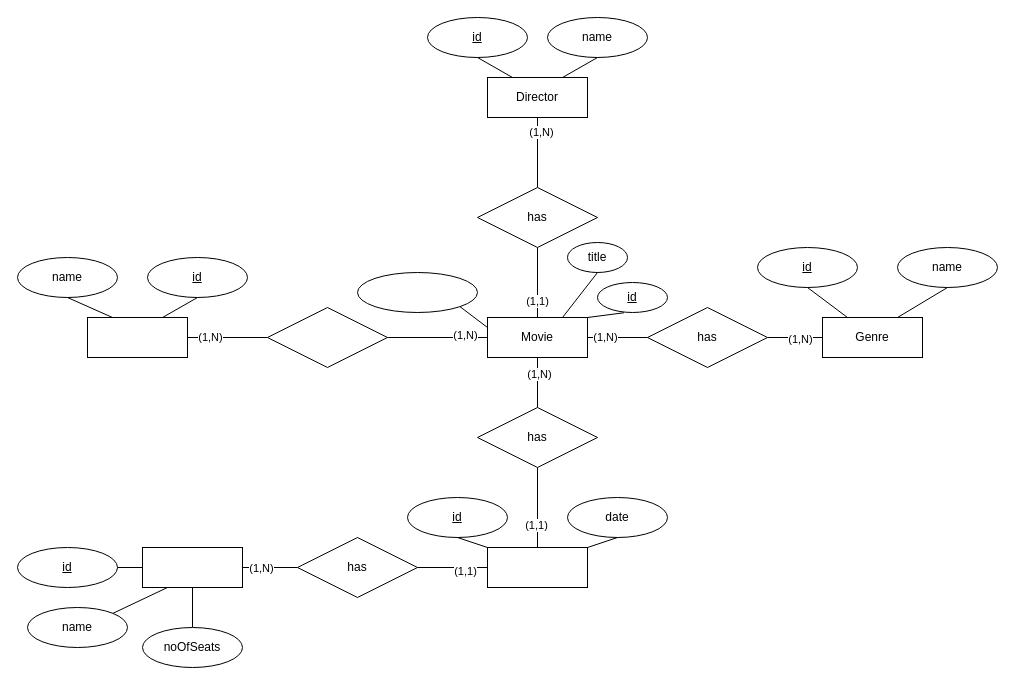
Image size: 1015x685. Some labels were removed from this diagram. Each missing label, with the box of its shape:
Actor: (86, 316, 188, 358)
acts: (266, 306, 388, 368)
CinemaHall: (142, 546, 242, 588)
duration_in_minutes: (356, 272, 478, 312)
Projection: (486, 546, 588, 588)
